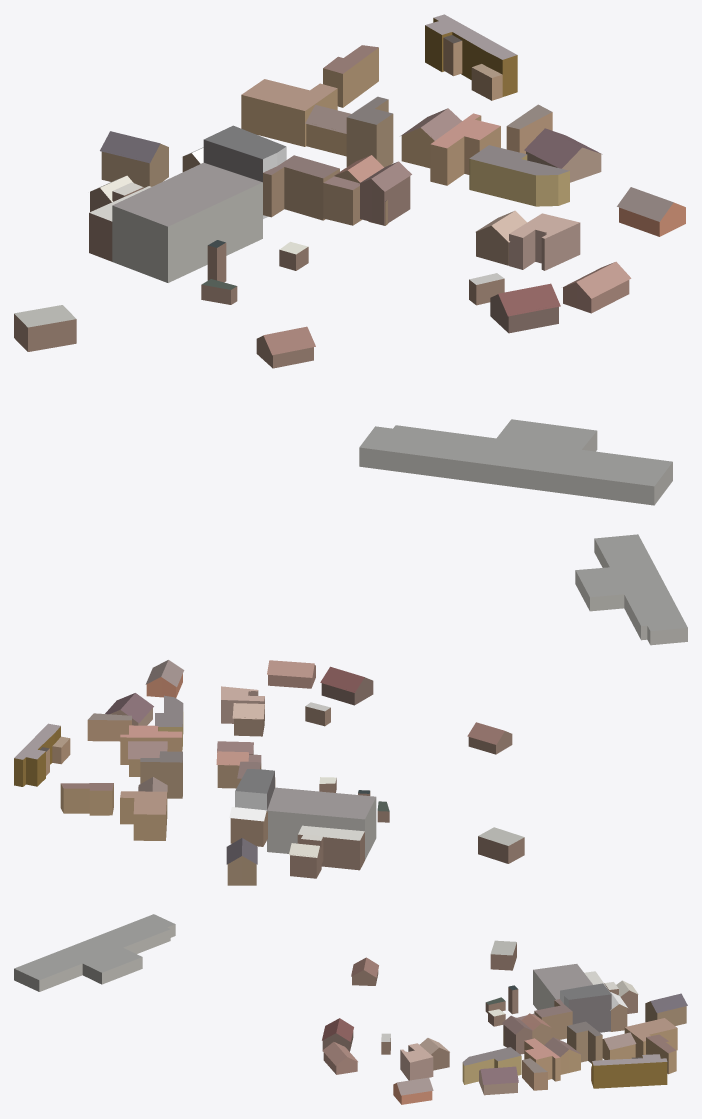
The picture shows the model from 3 angles, top to bottom: view 1: azimuth 30°, elevation 25°; view 2: azimuth 150°, elevation 25°; view 3: azimuth 270°, elevation 25°; orthographic projection. The views are drawn at different scales.
Visible parts, largest first — view 1: tuile; view 2: tuile; view 3: tuile.
Part boxes in pixels (x1=…): tuile: x1=14, y1=14, x2=685, y2=505; tuile: x1=14, y1=534, x2=687, y2=885; tuile: x1=14, y1=914, x2=687, y2=1104.
Bounding box in the file's own units: 155 × 25.14 × 251.
